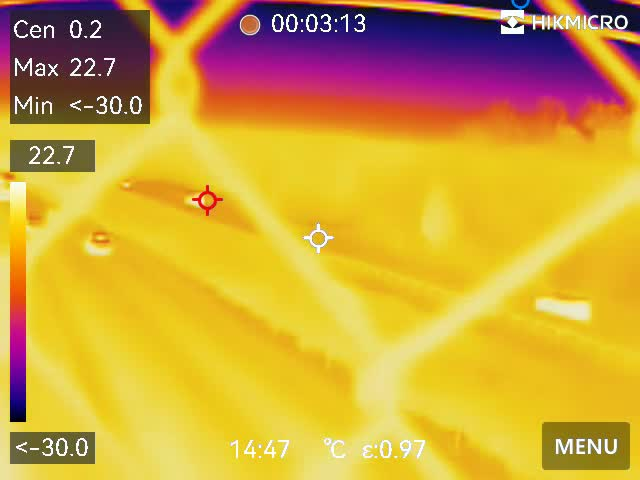vehicle: (80, 227, 114, 256)
